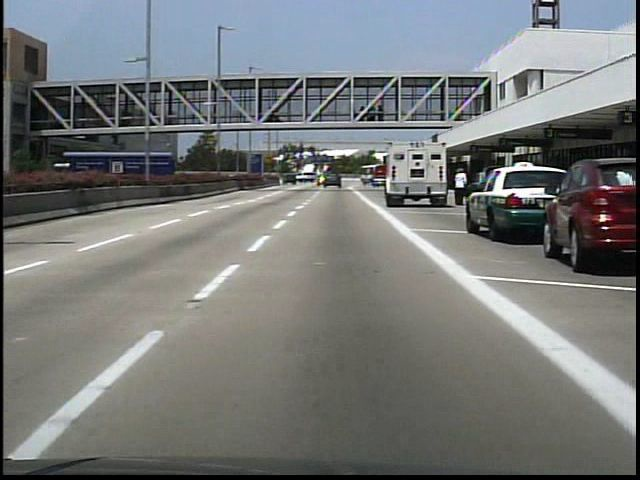person: (452, 168, 467, 209)
